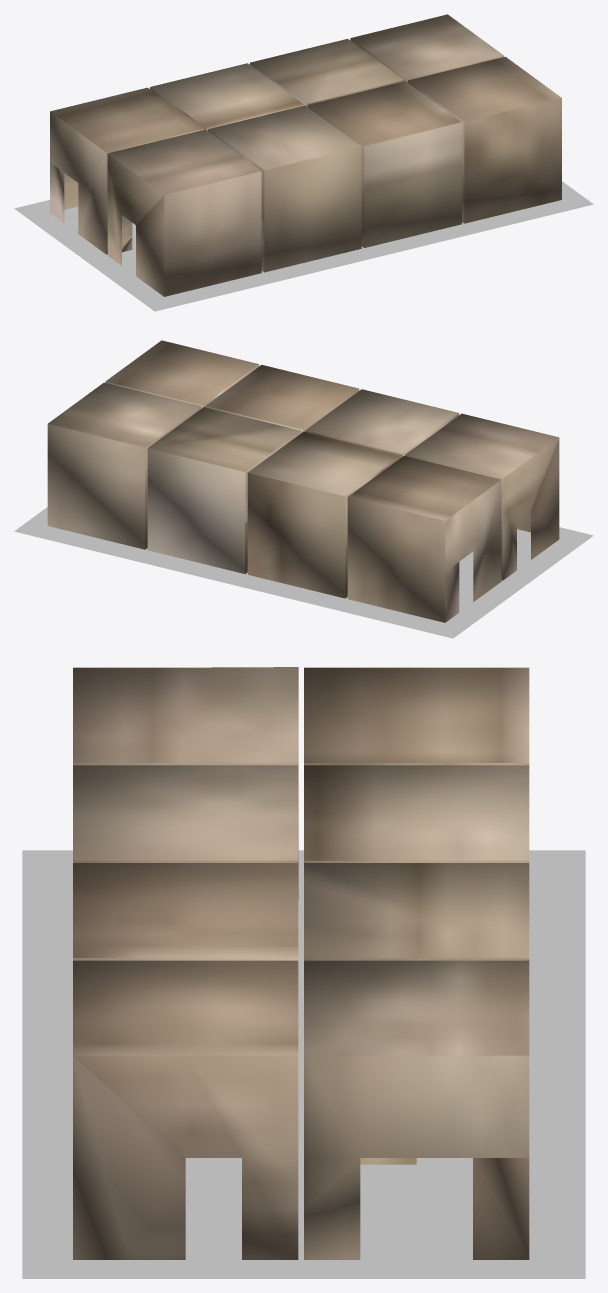
File: museo_prof.obj
3 views of the same model, one above another, from view 1: azimuth 30°, elevation 25°; view 2: azimuth 150°, elevation 25°; view 3: azimuth 270°, elevation 25° (orthographic). The views are drawn at different scales.
Visible parts, largest first — view 1: museumTri; view 2: museumTri; view 3: museumTri.
Part boxes in pixels (x1,y1,x2,y2): museumTri: [14, 14, 593, 311]; museumTri: [14, 340, 593, 638]; museumTri: [22, 667, 585, 1278].
Size of the model in its own units: 9 by 2 by 5.
